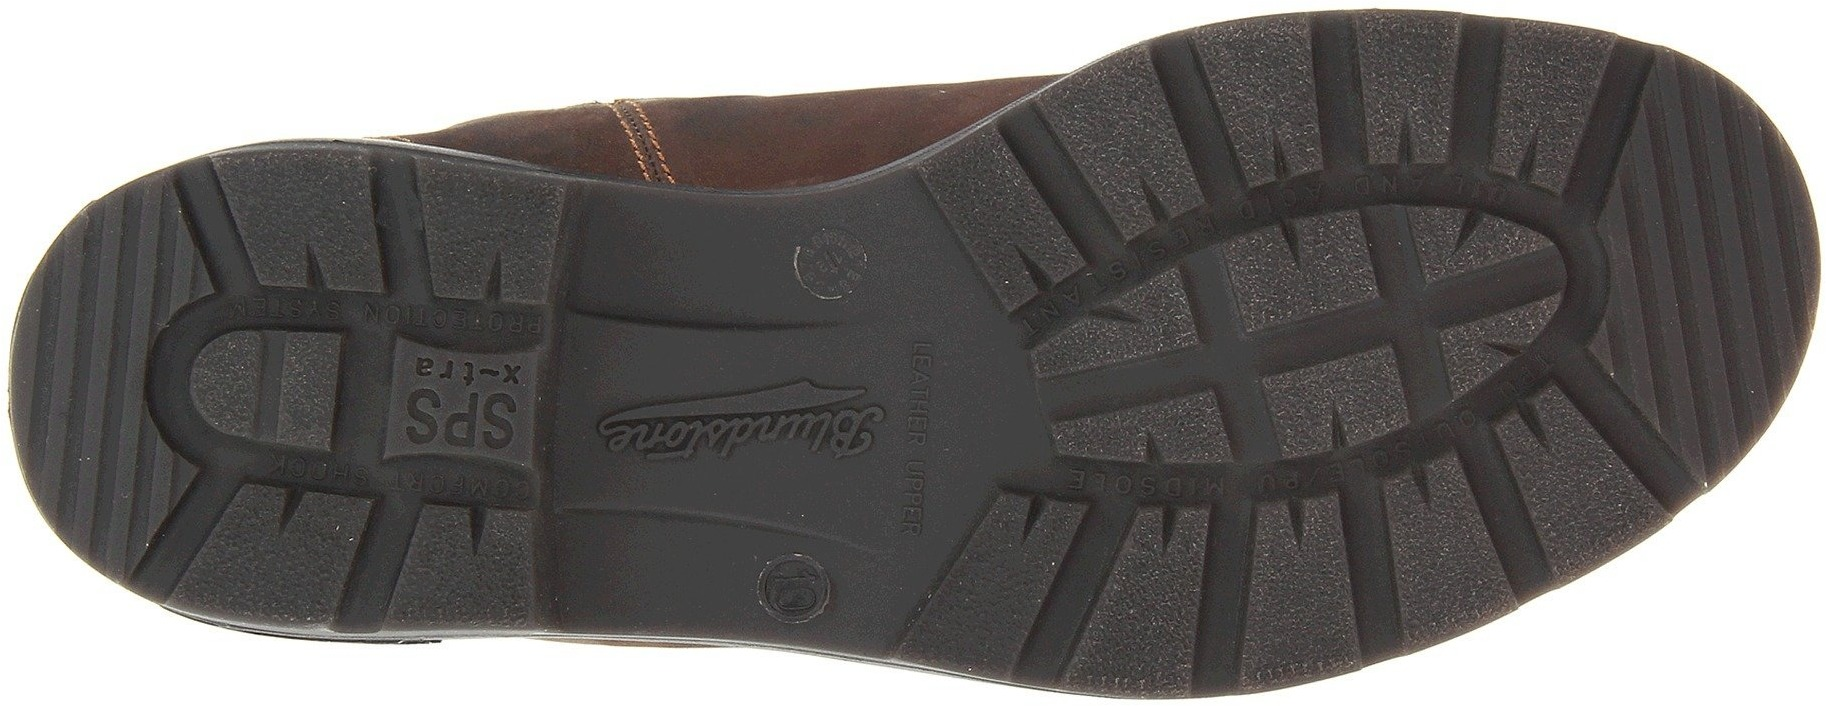other: (1611, 150, 1814, 358), (20, 311, 151, 445), (637, 196, 759, 315), (627, 518, 739, 629)
quad: (981, 27, 1645, 630), (174, 422, 382, 615), (222, 162, 396, 322)
text: (391, 339, 532, 473), (745, 372, 889, 500)
